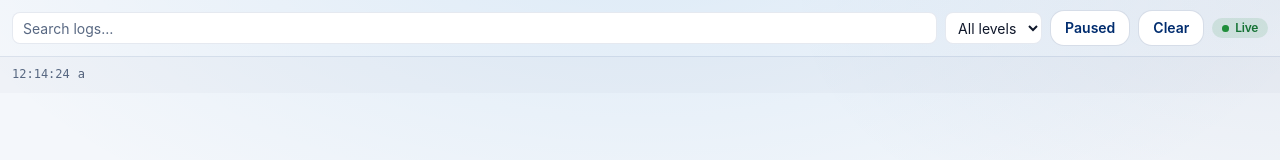
Test: LogViewer follow / pause-on-scroll › resumes following via the toggle button
(page scrolled)
Click the button "Paused".
click(1090, 28)  # box [1050, 10, 1130, 46]
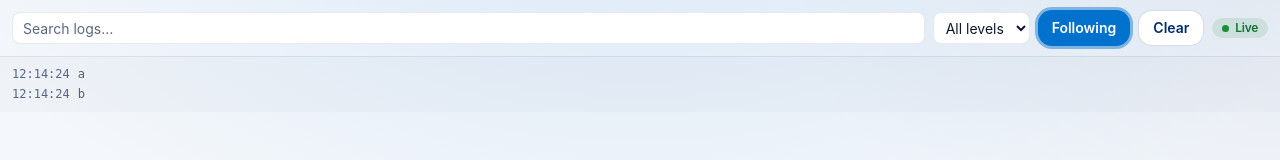
Check: the button "Following" is shown, box [1038, 10, 1130, 46]
